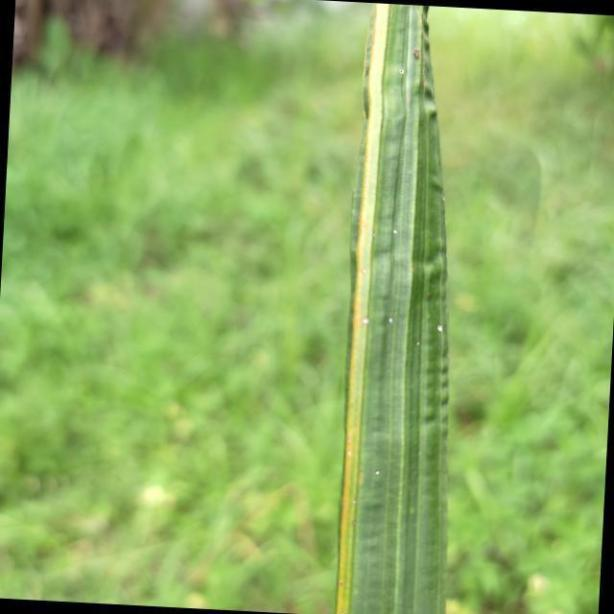Boron: (336, 0, 452, 614)
